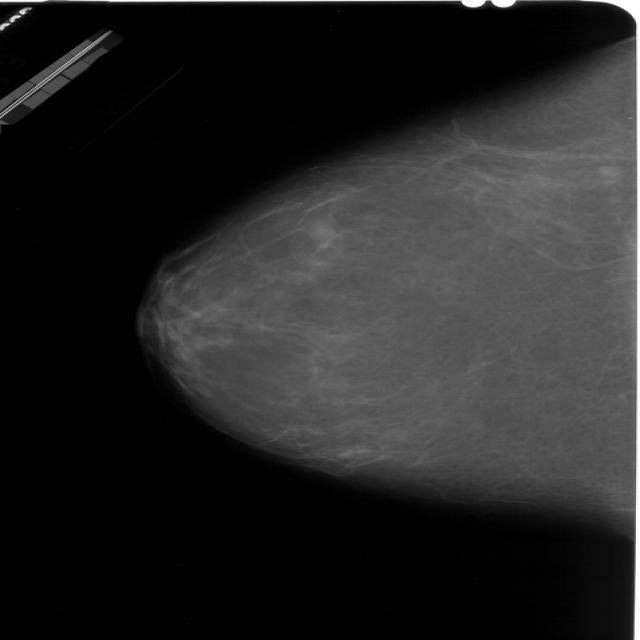tumour: (302, 214, 338, 243)
